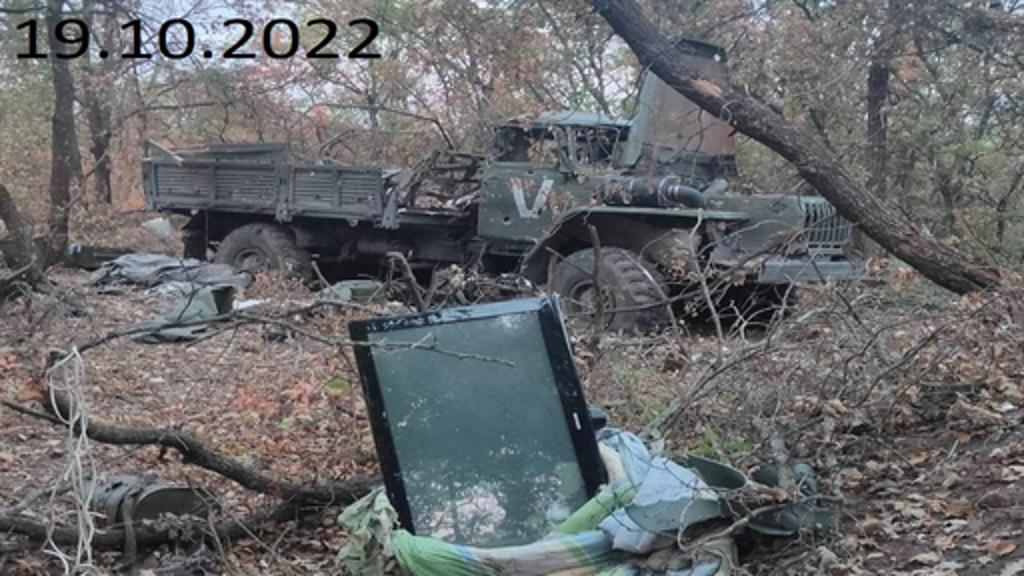TRUCK: (138, 34, 868, 332)
